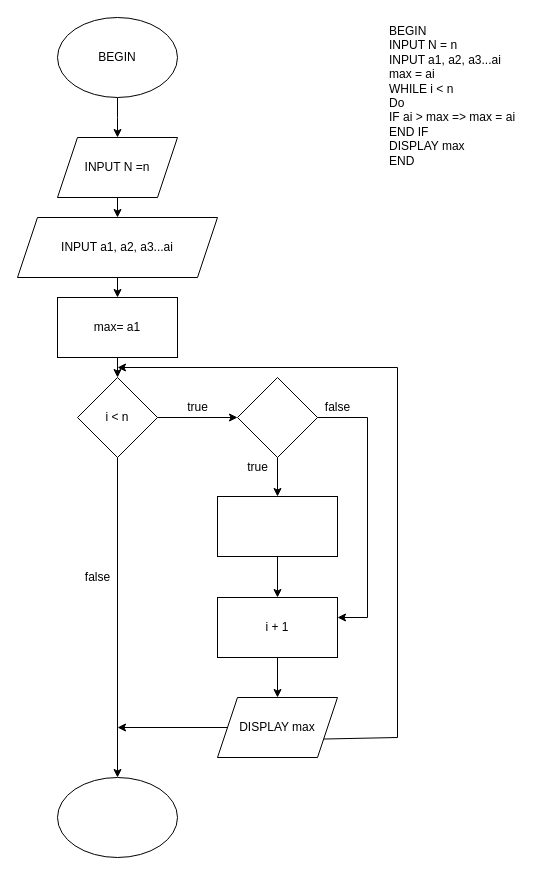
Image size: 555x875. Some labels were removed from this diagram. The shapes that lost their labels are listed below. From the top down, each one's centre as x and y in pixels, then its label:
point (277, 417): ai > max
point (277, 526): max = ai
point (117, 817): END
